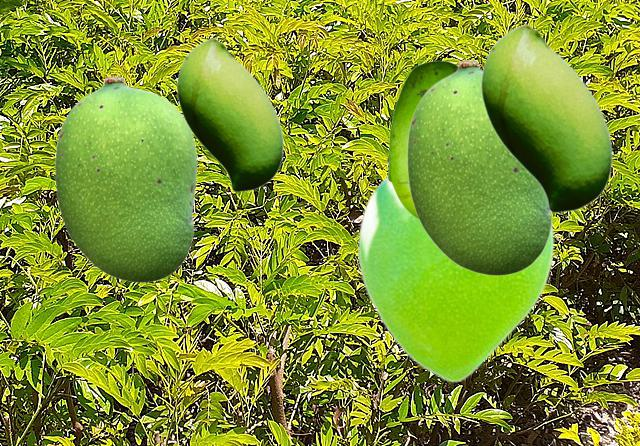green_mango: (358, 173, 553, 382), (406, 59, 552, 275), (54, 75, 196, 282), (480, 23, 611, 212), (176, 37, 282, 191), (386, 60, 456, 219)
